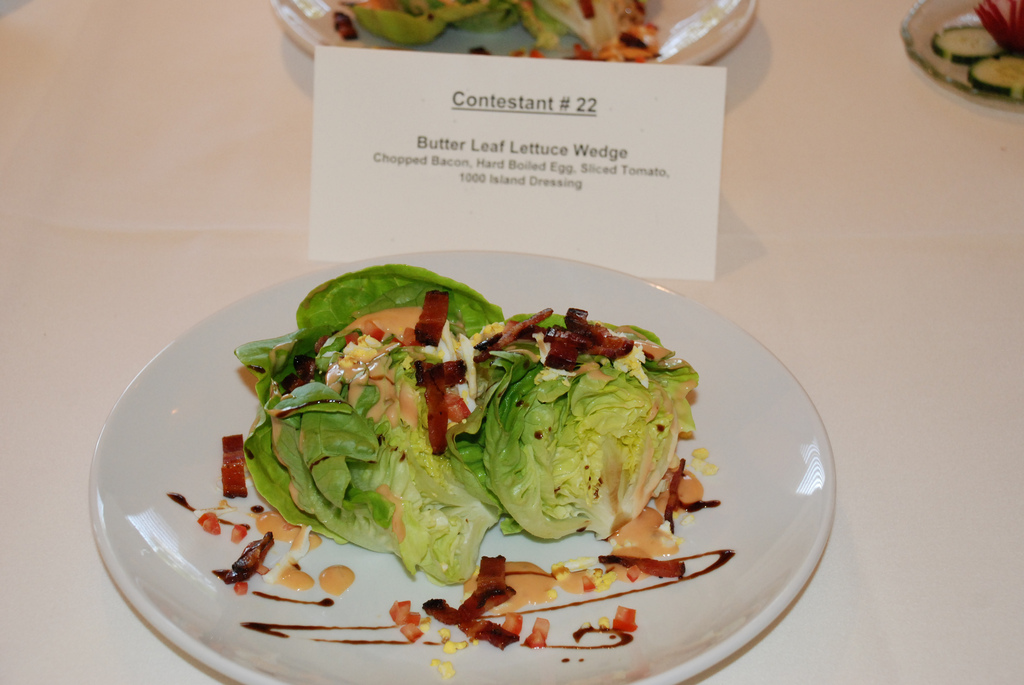chopped lettuce: (254, 390, 488, 580), (499, 356, 678, 537), (310, 269, 499, 324)
